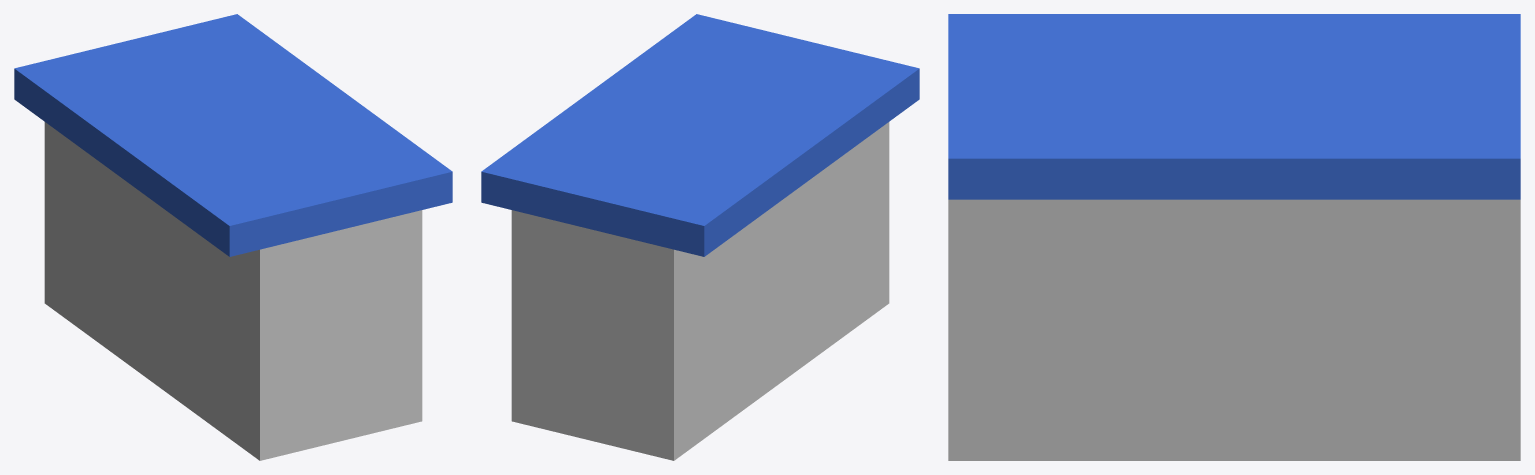
The model's file is DeskHigh.fbx.
3 renders of one model, left to right at view 1: azimuth 30°, elevation 25°; view 2: azimuth 150°, elevation 25°; view 3: azimuth 270°, elevation 25°, orthographic. The views are drawn at different scales.
Visible parts, largest first — view 1: DeskEmptyHigh; view 2: DeskEmptyHigh; view 3: DeskEmptyHigh.
Boxes of the visible parts, bbox=[...] form: DeskEmptyHigh: bbox=[14, 14, 452, 460]; DeskEmptyHigh: bbox=[481, 14, 919, 460]; DeskEmptyHigh: bbox=[948, 14, 1520, 460].
Bounding box in the file's own units: 807 × 838 × 1350.
